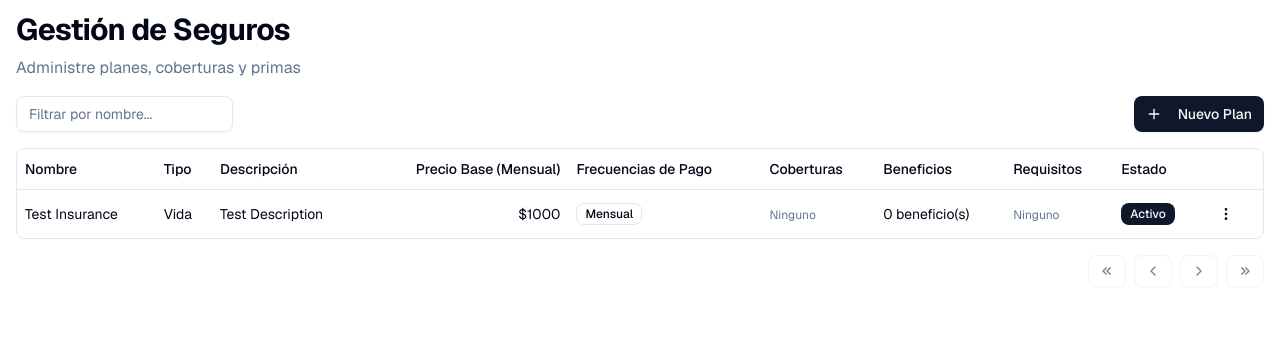
Test: Insurance Management Flow Integration Tests › Filtering and Search Tests › should show no results message when filter has no matches
Note: Escribir en el campo de filtro un texto que no coincida con ningún seguro
Step 1. Type "No existe este seguro" into the field with placeholder "Filtrar por nombre..." → [124, 114], box [16,96,233,132]
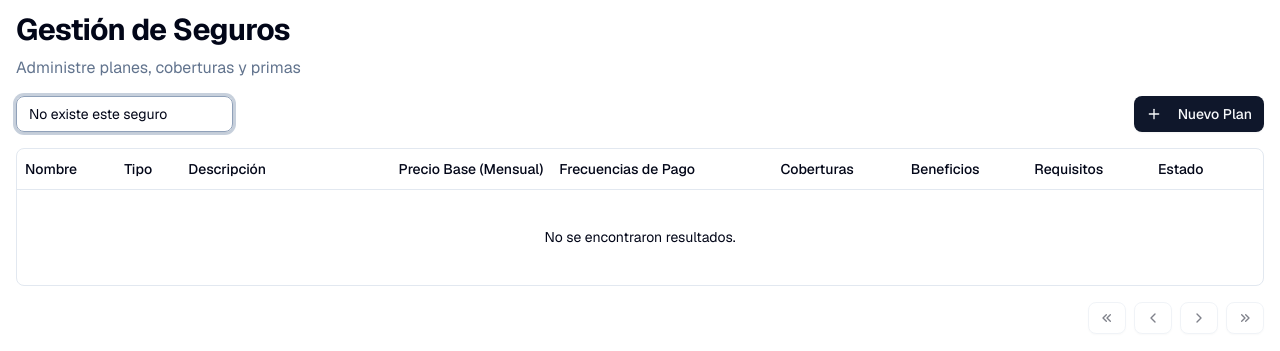
Result: the text "No se encontraron resultados." is shown at [17,189,1263,285]
